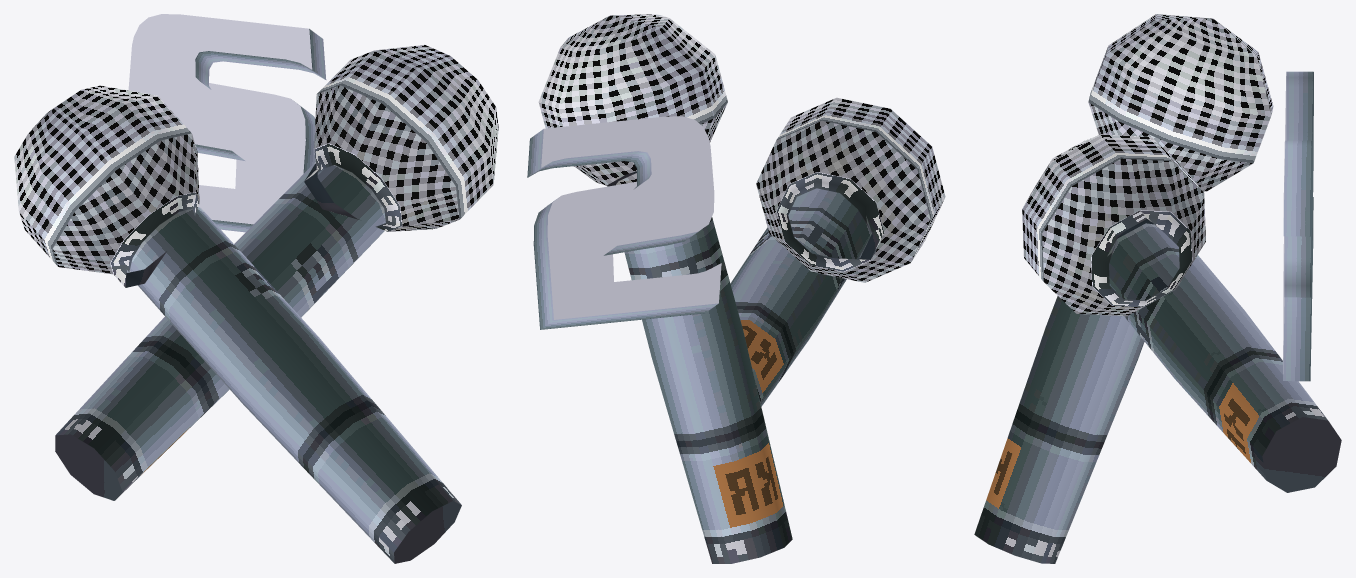
File: ps2_save-icons_karaokerevolutionvolume2.glb
3 views of the same model, side by side, from view 1: azimuth 30°, elevation 25°; view 2: azimuth 150°, elevation 25°; view 3: azimuth 270°, elevation 25° (orthographic). The views are drawn at different scales.
Parts seen in each view (by area): view 1: kara.icn; view 2: kara.icn; view 3: kara.icn.
Part boxes in pixels (x1,y1,x2,y2): kara.icn: [14, 14, 498, 563]; kara.icn: [527, 14, 945, 563]; kara.icn: [974, 14, 1341, 563].
Bounding box in the file's own units: 4.72 × 4.9 × 3.66.
Materials: 1 (1 with a texture image).
